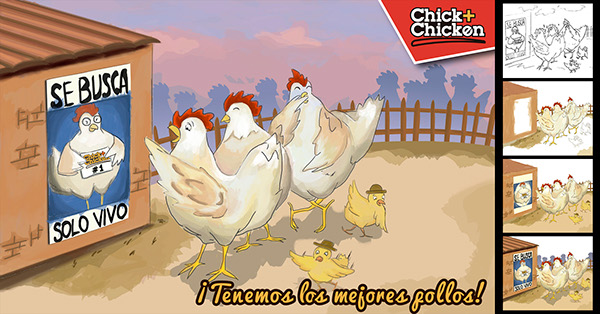bird: (140, 106, 294, 289), (271, 68, 390, 236), (214, 91, 295, 254), (44, 110, 129, 211), (286, 235, 361, 295), (342, 178, 394, 242), (535, 260, 574, 303), (535, 180, 572, 225), (533, 104, 567, 148), (561, 175, 594, 215), (561, 96, 594, 136), (561, 250, 592, 290), (549, 256, 575, 299), (548, 101, 575, 141), (550, 180, 574, 219), (514, 261, 535, 283), (514, 187, 535, 205), (578, 198, 596, 218), (577, 276, 595, 295), (569, 290, 588, 307), (570, 213, 585, 227)
